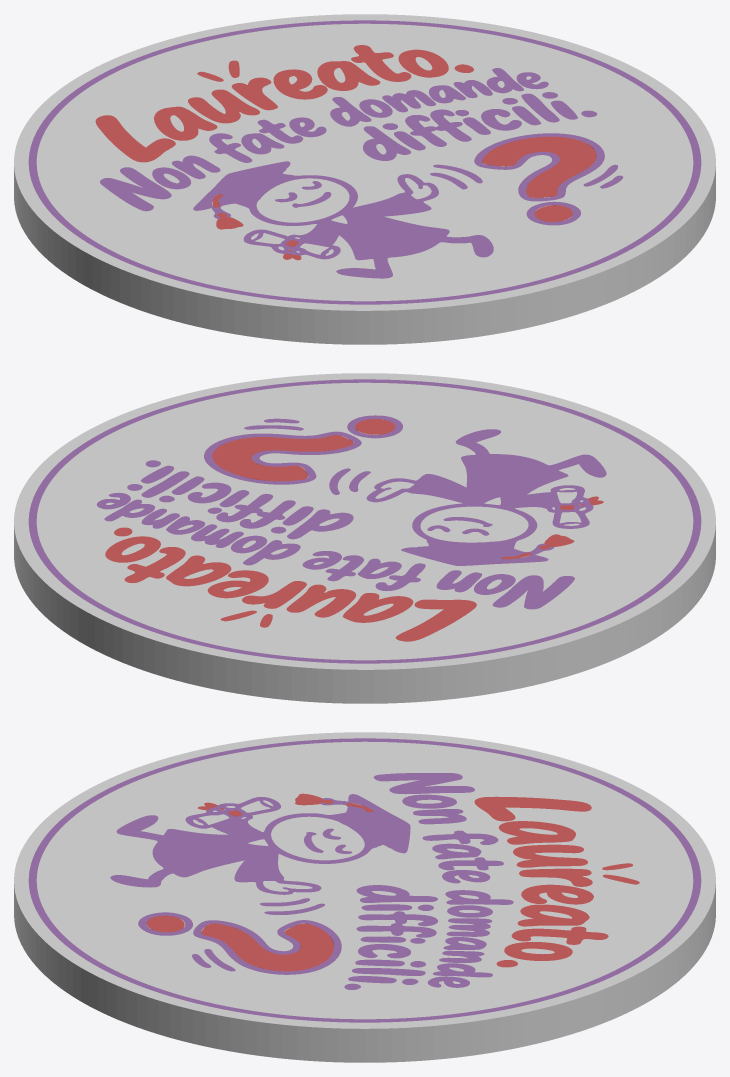
The model's file is sottobicchiere-non-domande-difficili.glb.
3 views of the same model, one above another, from view 1: azimuth 30°, elevation 25°; view 2: azimuth 150°, elevation 25°; view 3: azimuth 270°, elevation 25° (orthographic).
Visible parts, largest first — view 1: coaster_base, coaster_ink, coaster_accent; view 2: coaster_base, coaster_ink, coaster_accent; view 3: coaster_base, coaster_ink, coaster_accent.
Part boxes in pixels (bbox=[...]): coaster_base: bbox=[14, 14, 715, 344]; coaster_ink: bbox=[28, 20, 701, 304]; coaster_accent: bbox=[95, 45, 596, 260]; coaster_base: bbox=[14, 373, 715, 703]; coaster_ink: bbox=[28, 379, 701, 663]; coaster_accent: bbox=[105, 419, 603, 641]; coaster_base: bbox=[14, 732, 715, 1062]; coaster_ink: bbox=[28, 738, 701, 1022]; coaster_accent: bbox=[146, 793, 639, 971].
Size of the model in its own units: 0.075 by 0.004 by 0.075.
